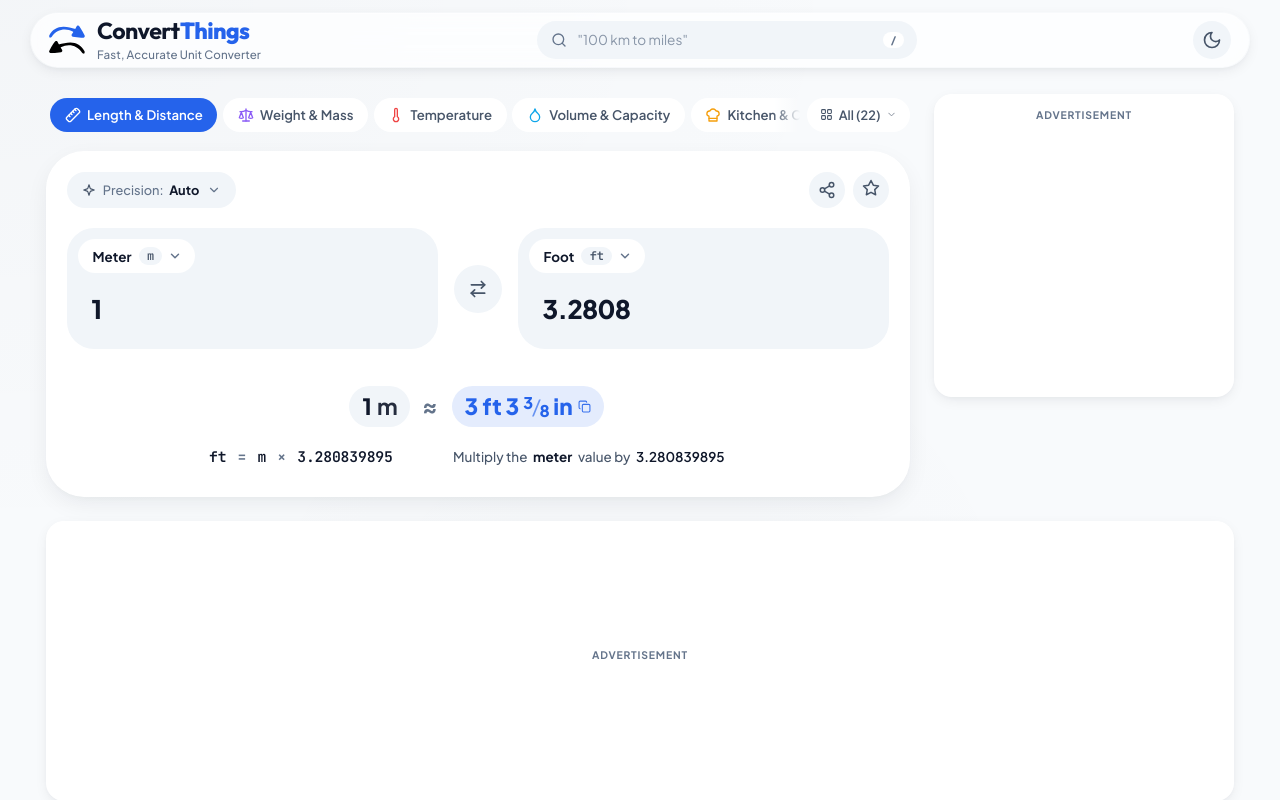
it: ConvertThings UI Integration › unit search dropdown selects matching unit on Enter key
Click the button titled "Change unit from Meter" at (136, 256), box [78,239,195,273]
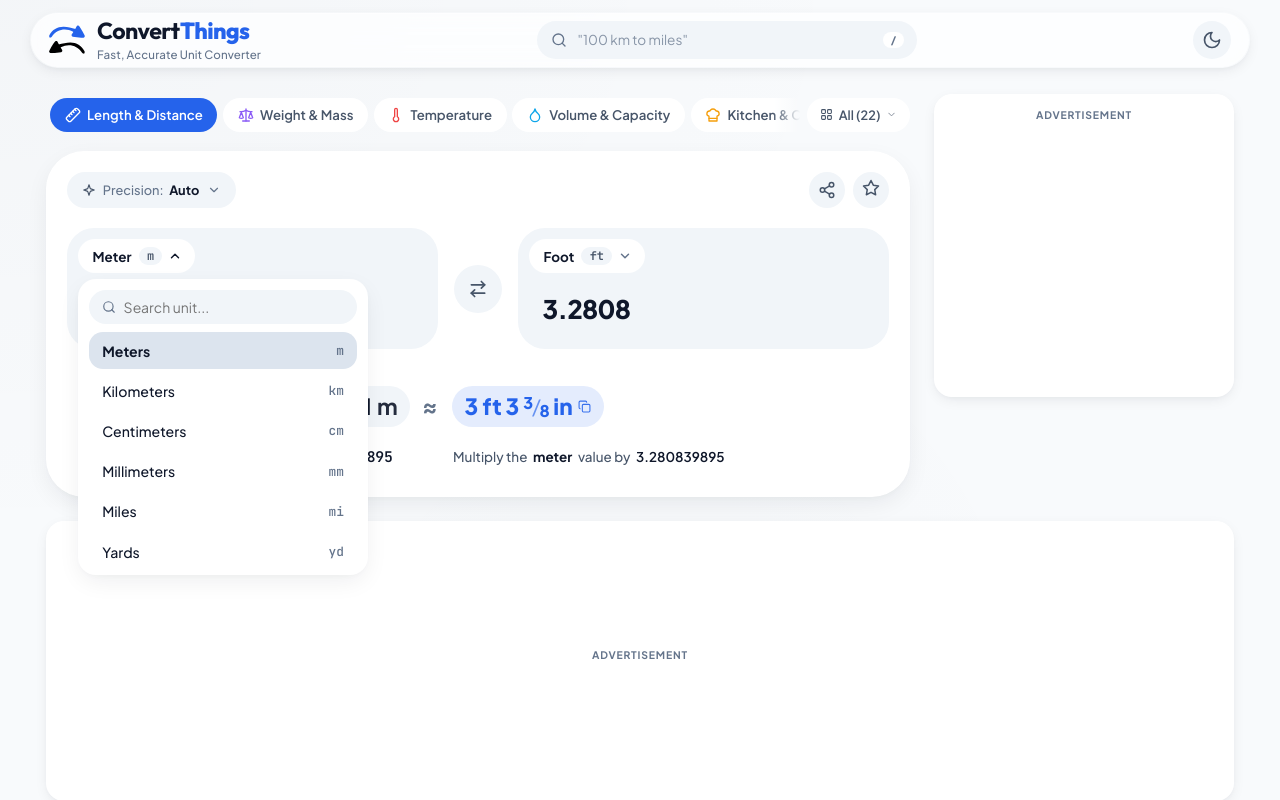
Type "inch" into the field with placeholder "Search unit..." at (234, 307), box [124,298,344,316]
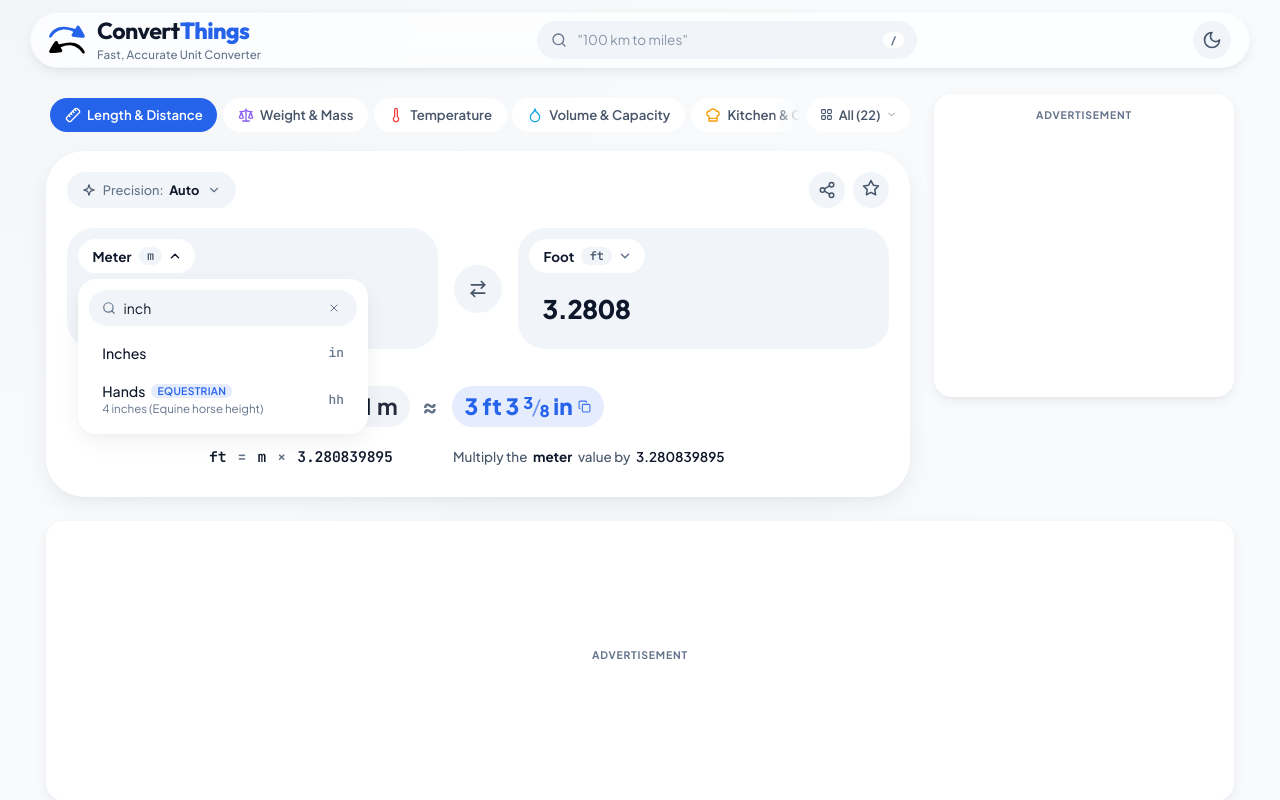
Press Enter in the field with placeholder "Search unit...", box [124,299,316,317]
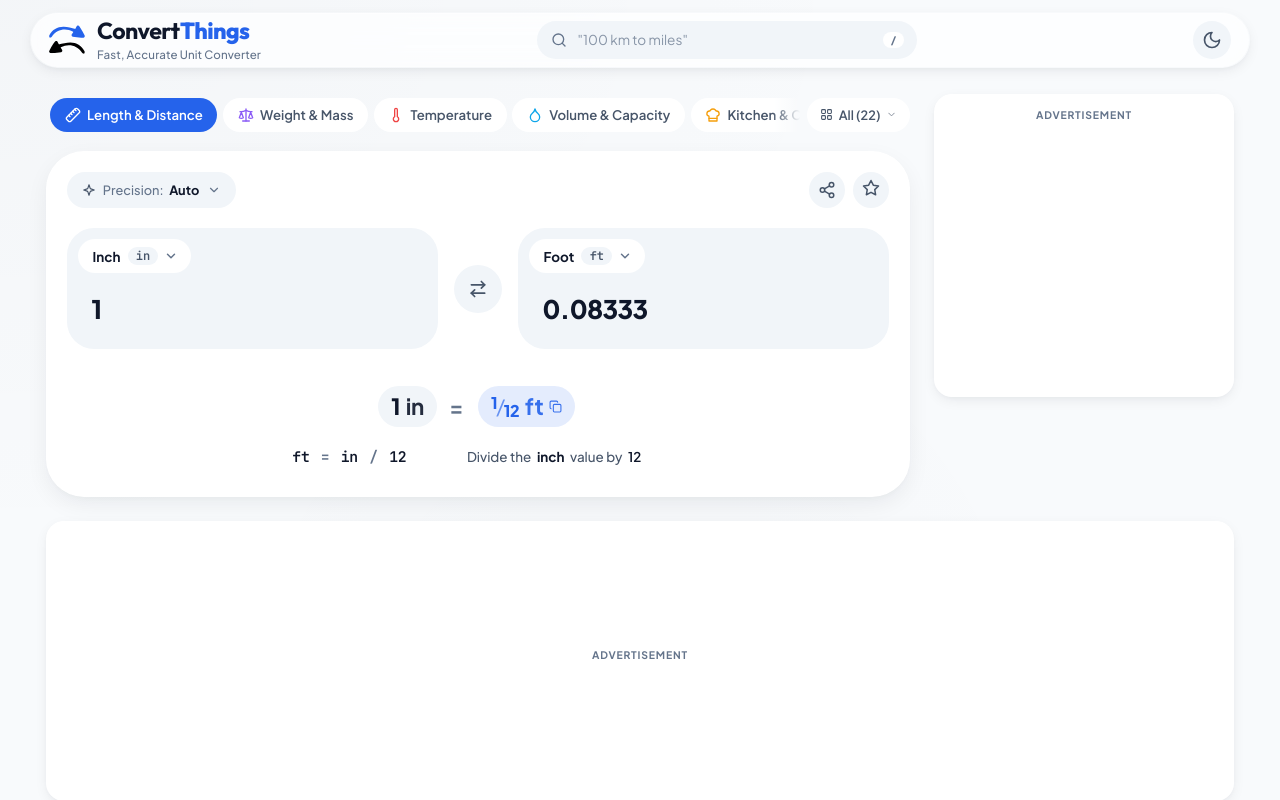
Now the button titled "Change unit from Inch" is shown, box [78,239,191,273]
